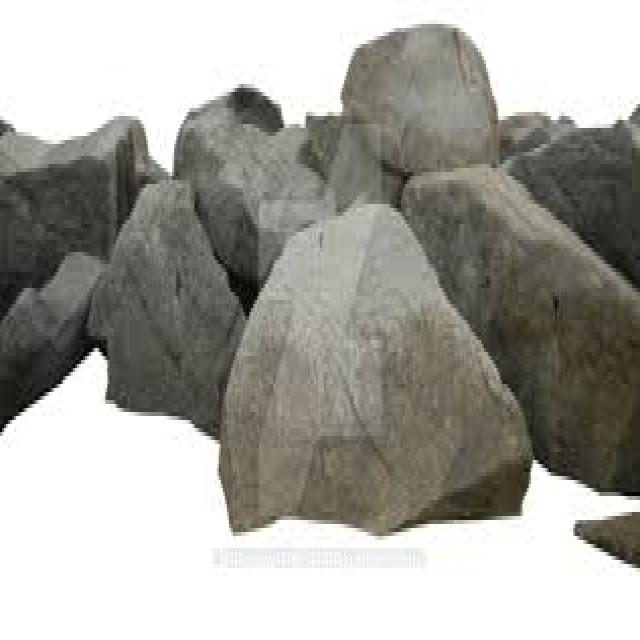Metamorphic: (2, 20, 636, 516)
